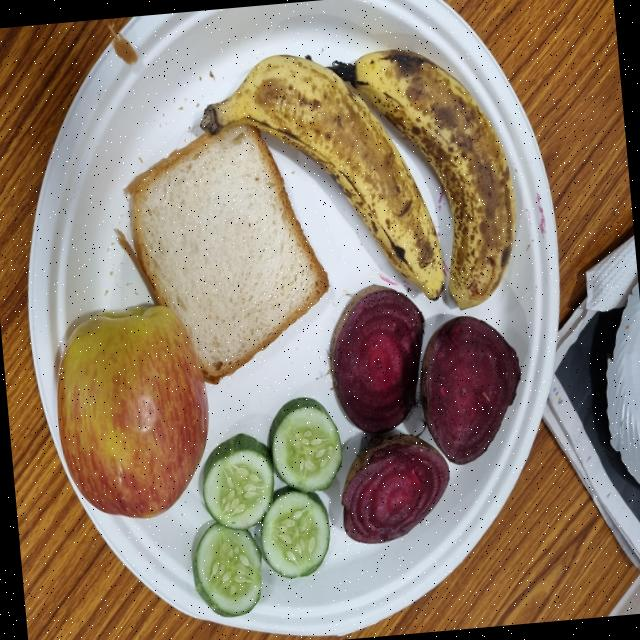apple: (55, 300, 207, 516)
banana: (199, 51, 449, 296), (335, 46, 513, 302)
cucumber: (188, 516, 262, 616), (200, 431, 276, 527), (266, 394, 341, 490), (254, 482, 330, 576)
